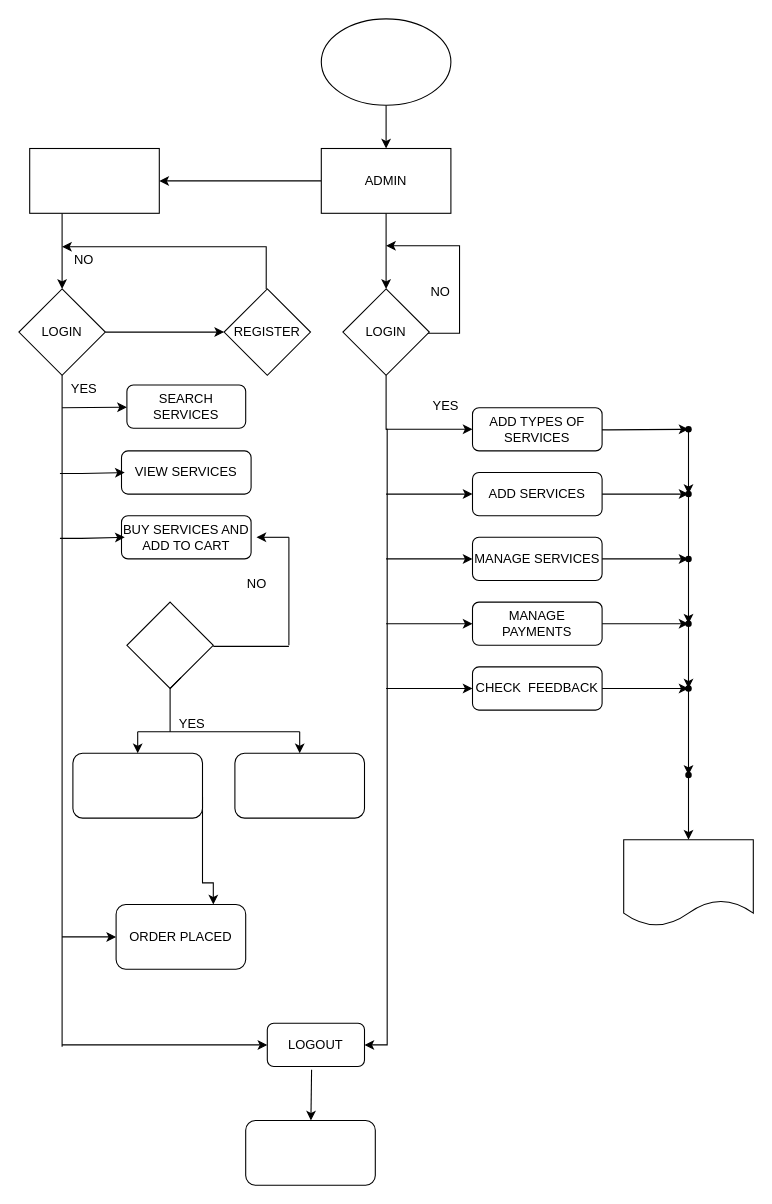
This 772x1204 diagram has some shape labels left out. The box of each missing label's shape, as (x1, y1, x2, y2) in pixels:
COD: (234, 752, 364, 818)
ONLINE PAYMENT: (72, 752, 202, 818)
PAYMENTS: (126, 601, 213, 688)
REPORTS: (623, 839, 753, 926)
START: (320, 18, 451, 105)
STOP: (245, 1119, 375, 1185)
USER: (29, 147, 159, 213)
